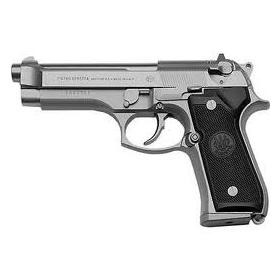gun: (7, 55, 271, 229)
